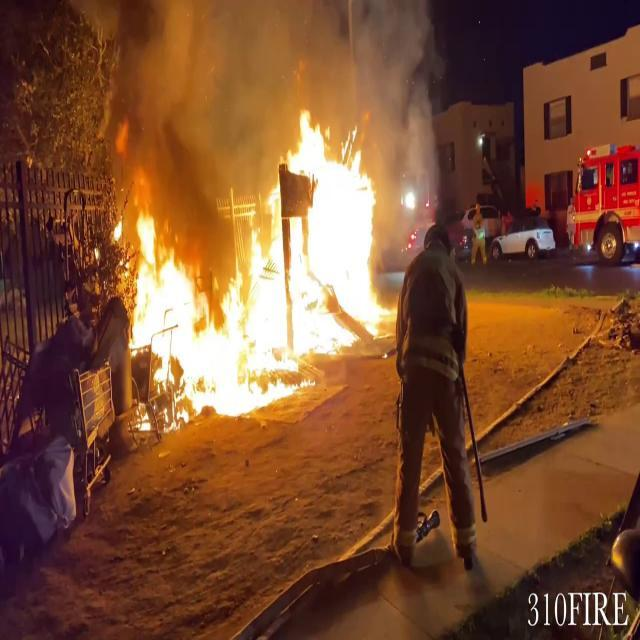Fire: (116, 106, 394, 421)
Smoke: (99, 0, 451, 184)
